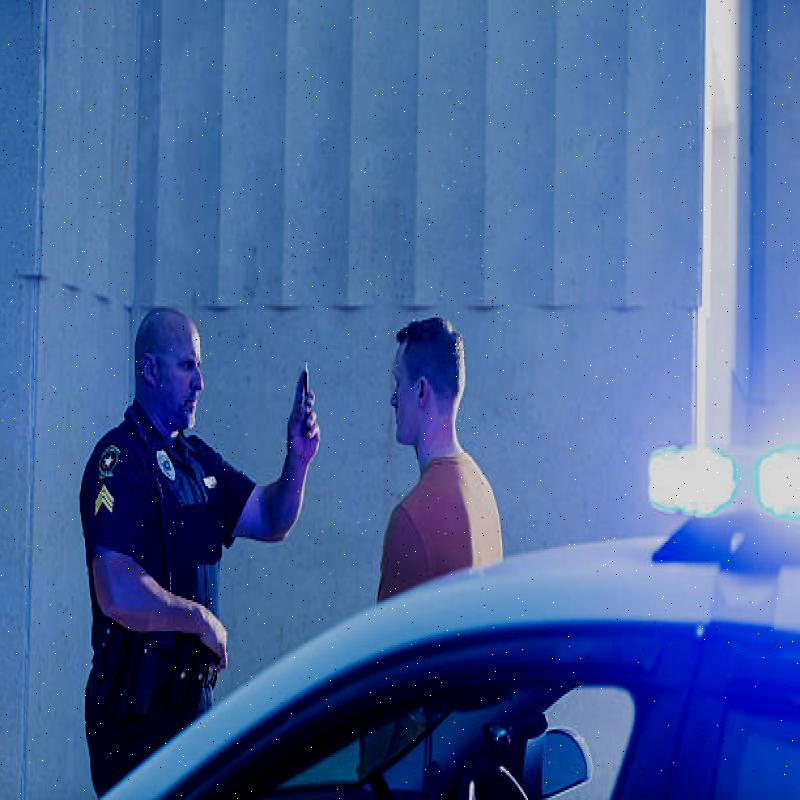AmbulanceSiren: (653, 383, 788, 543)
